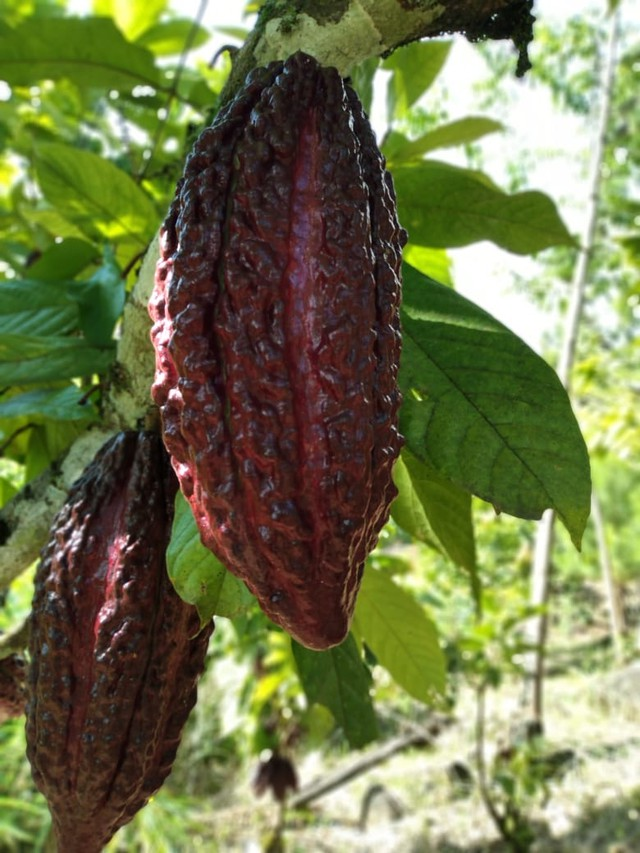Health: (139, 42, 409, 657)
